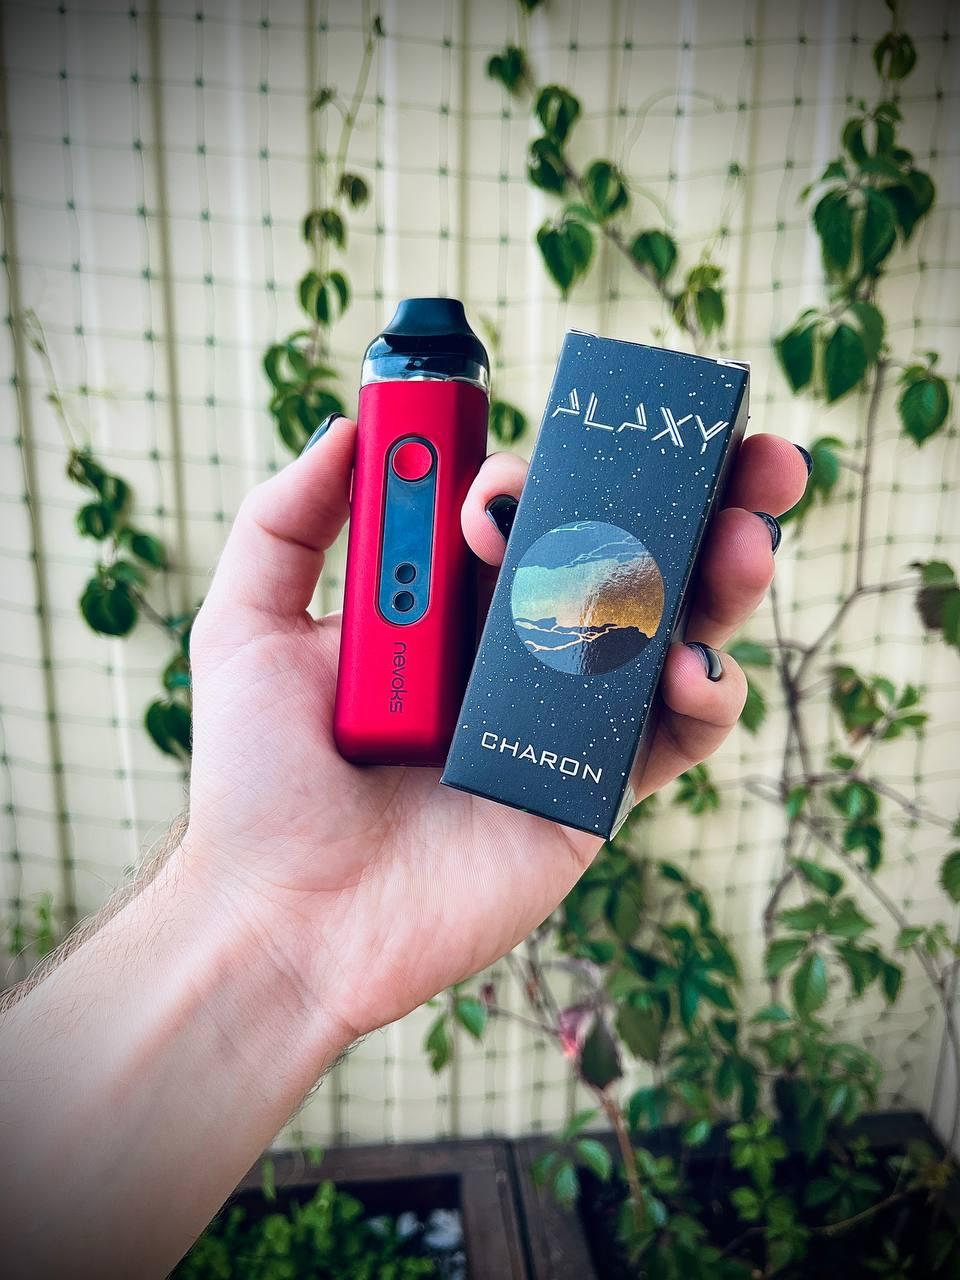Vape: (333, 298, 488, 768)
